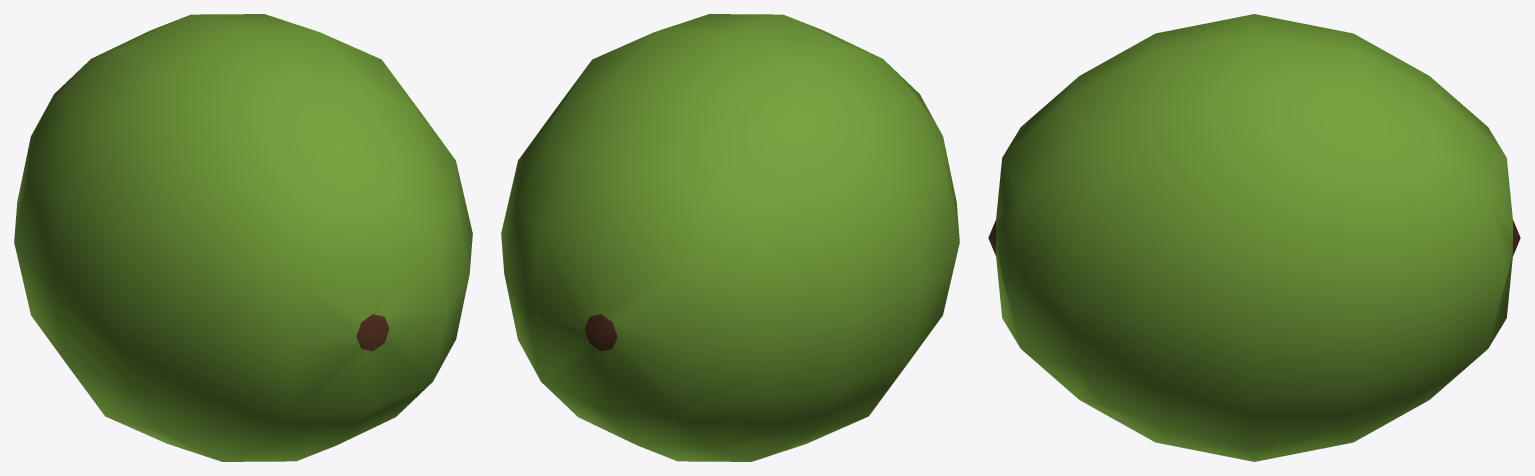
The model's file is Lime.glb.
3 views of the same model, side by side, from view 1: azimuth 30°, elevation 25°; view 2: azimuth 150°, elevation 25°; view 3: azimuth 270°, elevation 25° (orthographic).
Visible parts, largest first — view 1: Lime; view 2: Lime; view 3: Lime.
Boxes of the visible parts, x1,y1,x2,y2 form: Lime: (14,14,472,461); Lime: (501,14,959,461); Lime: (988,14,1520,461).
Bounding box in the file's own units: 0.0461 × 0.0461 × 0.0551.
1 material, 1 textured.
